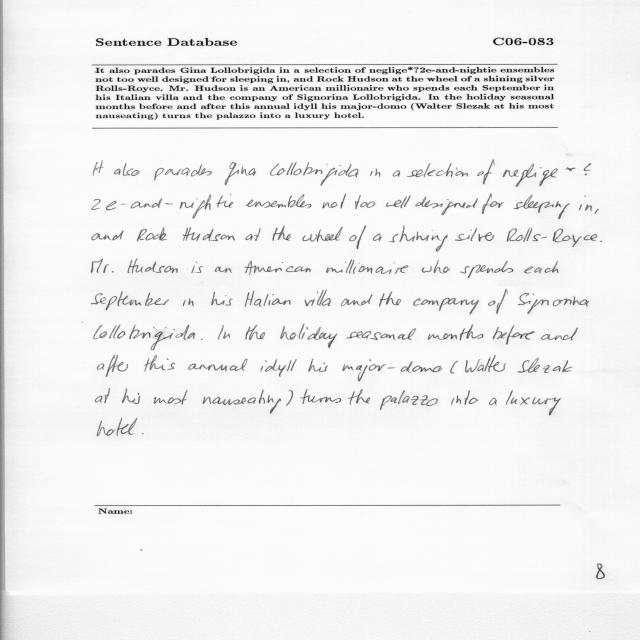word: (92, 194, 233, 218), (94, 325, 195, 350), (342, 360, 442, 382), (270, 162, 358, 186), (503, 163, 591, 187), (203, 390, 281, 414), (507, 227, 597, 247), (388, 226, 448, 252), (518, 293, 589, 314), (91, 292, 169, 311), (506, 390, 561, 416), (513, 195, 570, 219), (281, 324, 338, 348), (326, 259, 408, 274), (380, 390, 438, 410), (413, 298, 479, 315), (416, 197, 478, 215), (244, 261, 311, 275), (154, 165, 212, 181), (245, 195, 311, 209), (461, 261, 514, 278), (428, 325, 483, 341), (407, 163, 468, 177), (346, 328, 416, 340), (518, 358, 573, 373), (188, 359, 248, 372), (493, 325, 534, 344), (245, 290, 290, 307), (128, 259, 178, 274), (465, 355, 506, 373), (97, 418, 138, 436), (183, 227, 235, 241), (225, 162, 256, 185), (97, 355, 128, 377), (260, 359, 297, 377), (302, 227, 343, 242), (301, 389, 342, 404), (455, 228, 495, 242), (488, 289, 508, 314), (144, 355, 175, 371), (541, 328, 578, 341), (154, 390, 188, 404), (305, 290, 331, 307), (482, 194, 504, 214), (477, 160, 495, 184), (137, 227, 167, 241), (451, 390, 479, 405), (524, 261, 558, 273), (349, 226, 366, 249), (341, 294, 373, 306), (421, 260, 450, 273), (348, 389, 370, 405), (114, 163, 140, 176), (323, 194, 347, 208), (379, 292, 401, 307), (91, 259, 114, 273), (92, 231, 124, 241), (386, 195, 410, 208), (245, 325, 265, 340), (355, 195, 376, 209), (211, 292, 233, 305), (273, 226, 291, 241), (122, 389, 140, 404), (308, 359, 328, 372), (96, 389, 111, 404), (579, 196, 592, 211), (246, 228, 261, 241), (218, 325, 230, 340), (93, 160, 104, 176), (192, 262, 203, 274), (214, 266, 232, 273), (286, 390, 293, 406), (450, 361, 458, 374), (370, 168, 380, 177), (183, 299, 194, 307), (373, 234, 382, 242), (489, 398, 497, 405), (393, 170, 400, 177), (595, 209, 599, 214), (600, 241, 602, 242), (201, 339, 203, 340), (142, 433, 144, 434)
